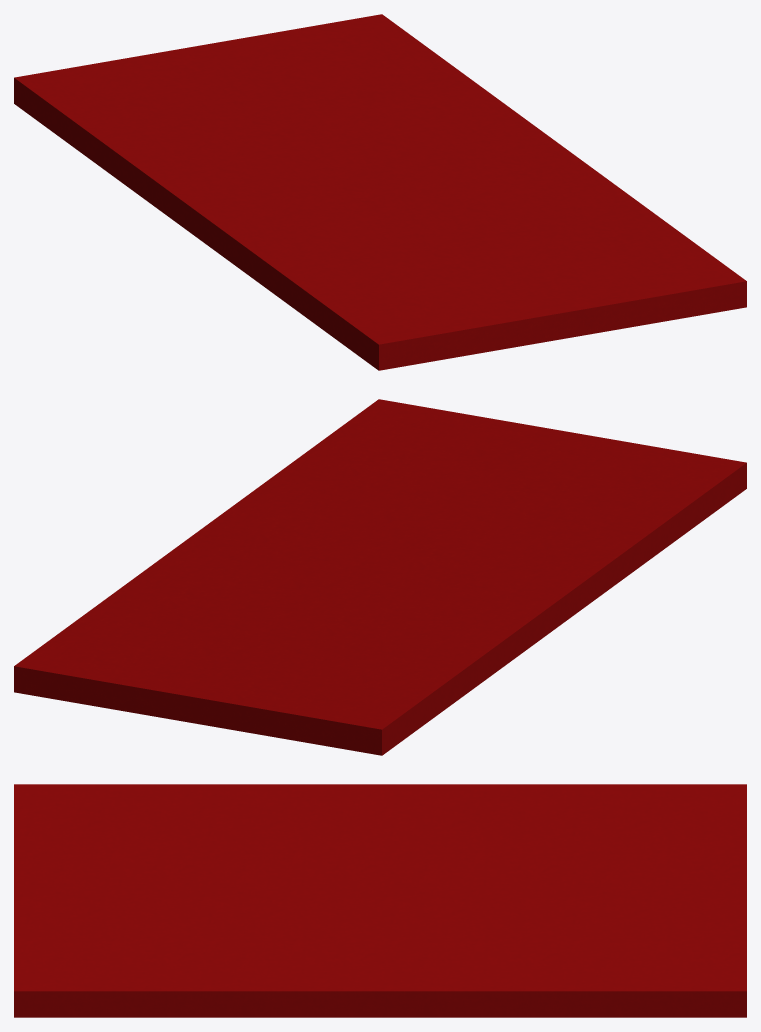
File: SM_灭火器箱_盖子.fbx
The picture shows the model from 3 angles, top to bottom: view 1: azimuth 30°, elevation 25°; view 2: azimuth 150°, elevation 25°; view 3: azimuth 270°, elevation 25°; orthographic projection.
Visible parts, largest first — view 1: SM_灭火器箱_盖子; view 2: SM_灭火器箱_盖子; view 3: SM_灭火器箱_盖子.
Boxes of the visible parts, x1,y1,x2,y2 form: SM_灭火器箱_盖子: (14,14,746,370); SM_灭火器箱_盖子: (14,399,746,755); SM_灭火器箱_盖子: (14,784,746,1017).
Size of the model in its own units: 0.2344 by 0.0319 by 0.4023.
